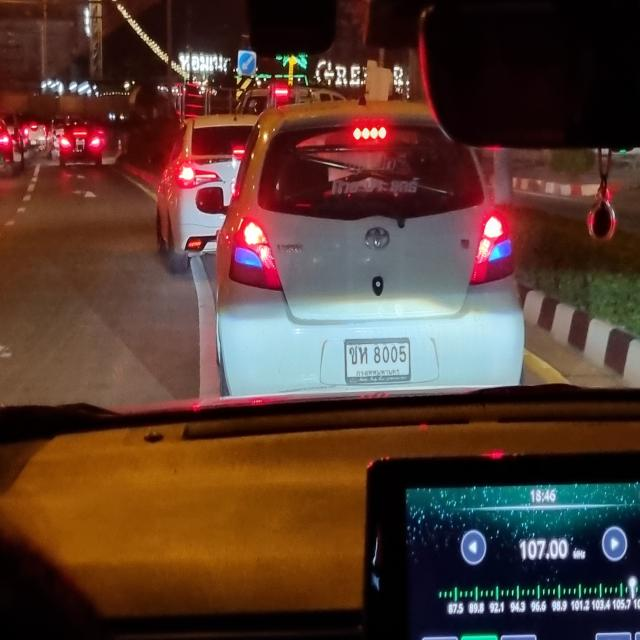license_plate: (340, 335, 411, 386)
